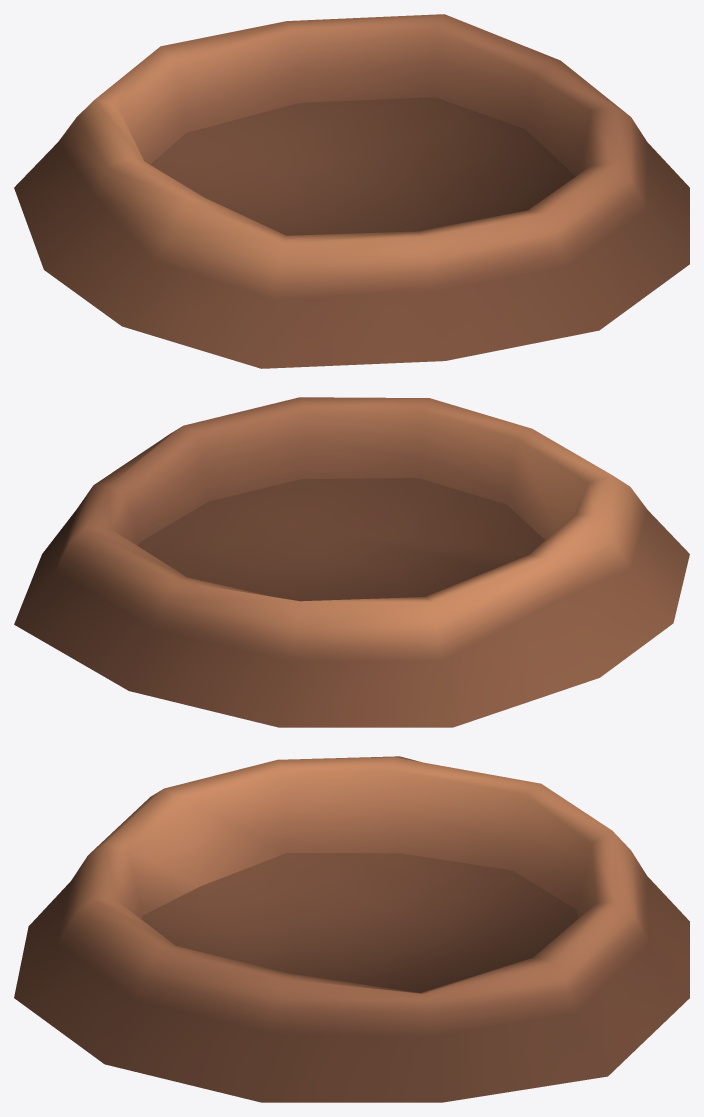
File: TurtleProp.fbx
The picture shows the model from 3 angles, top to bottom: view 1: azimuth 30°, elevation 25°; view 2: azimuth 150°, elevation 25°; view 3: azimuth 270°, elevation 25°; orthographic projection. The views are drawn at different scales.
Visible parts, largest first — view 1: TurtleProp; view 2: TurtleProp; view 3: TurtleProp.
Boxes of the visible parts, <box> form: TurtleProp: <box>14,14,689,368</box>; TurtleProp: <box>14,397,689,727</box>; TurtleProp: <box>14,756,689,1102</box>.
Size of the model in its own units: 154 by 26.28 by 159.
Materials: 1 (1 with a texture image).
